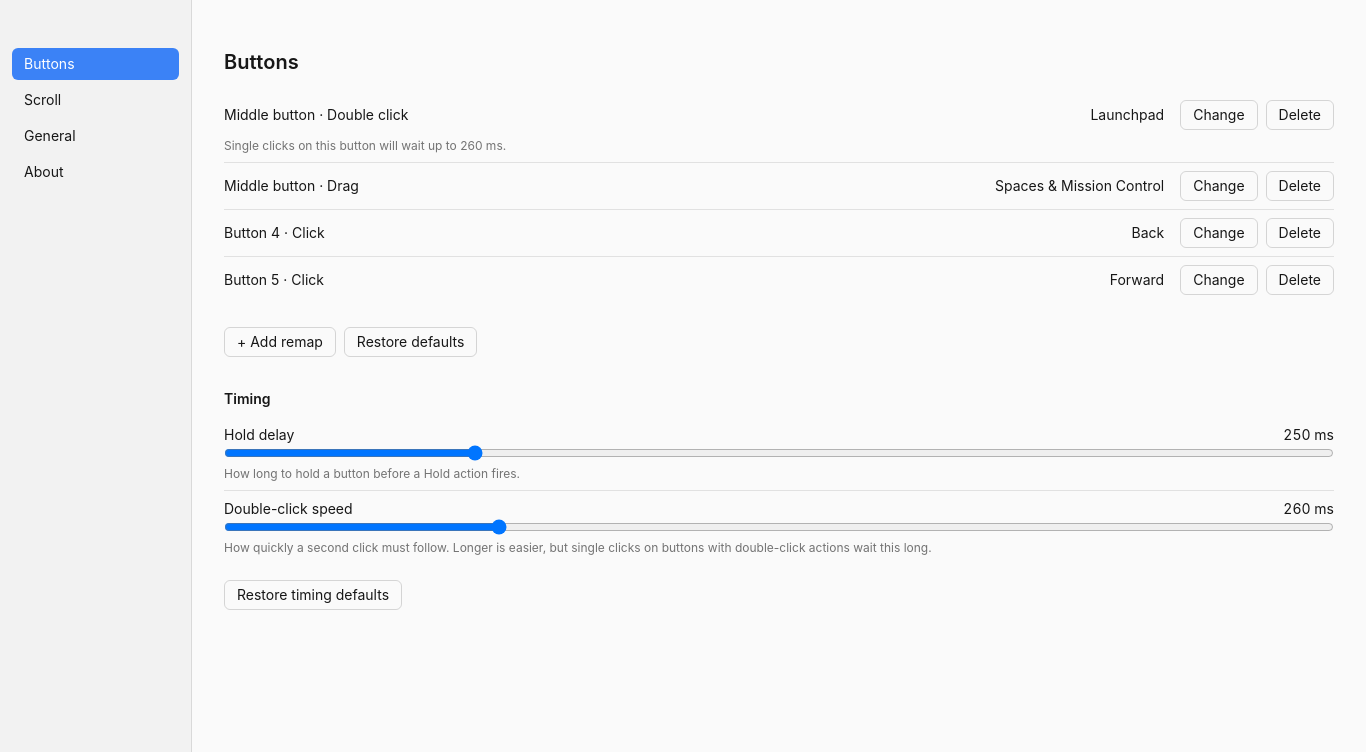
it: Buttons page › an edited drag row can't be saved with no direction
Click the button "Change" next to "Spaces & Mission Control".
click(1219, 186)  # box [1180,171,1258,201]
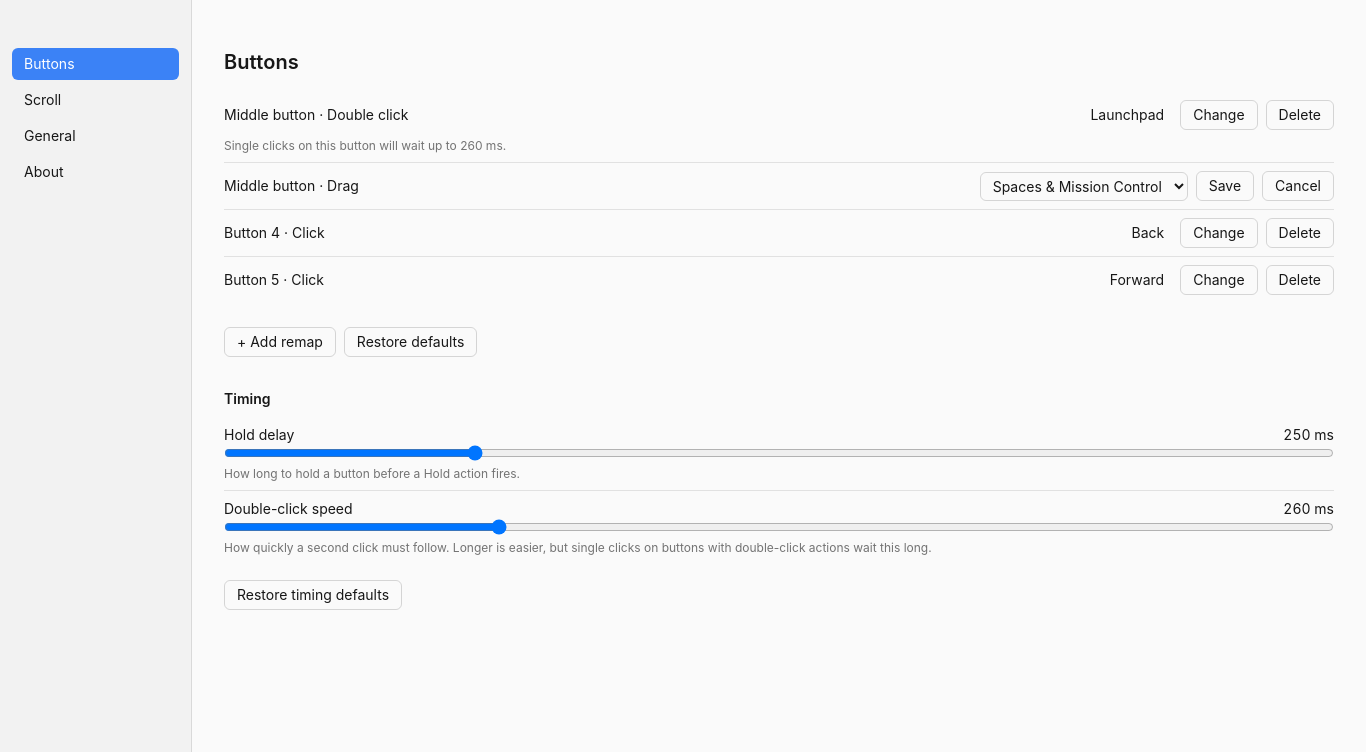
Select "Separate actions" in the dropdown named "Drag effect" at (1084, 186), box [980,172,1188,200]
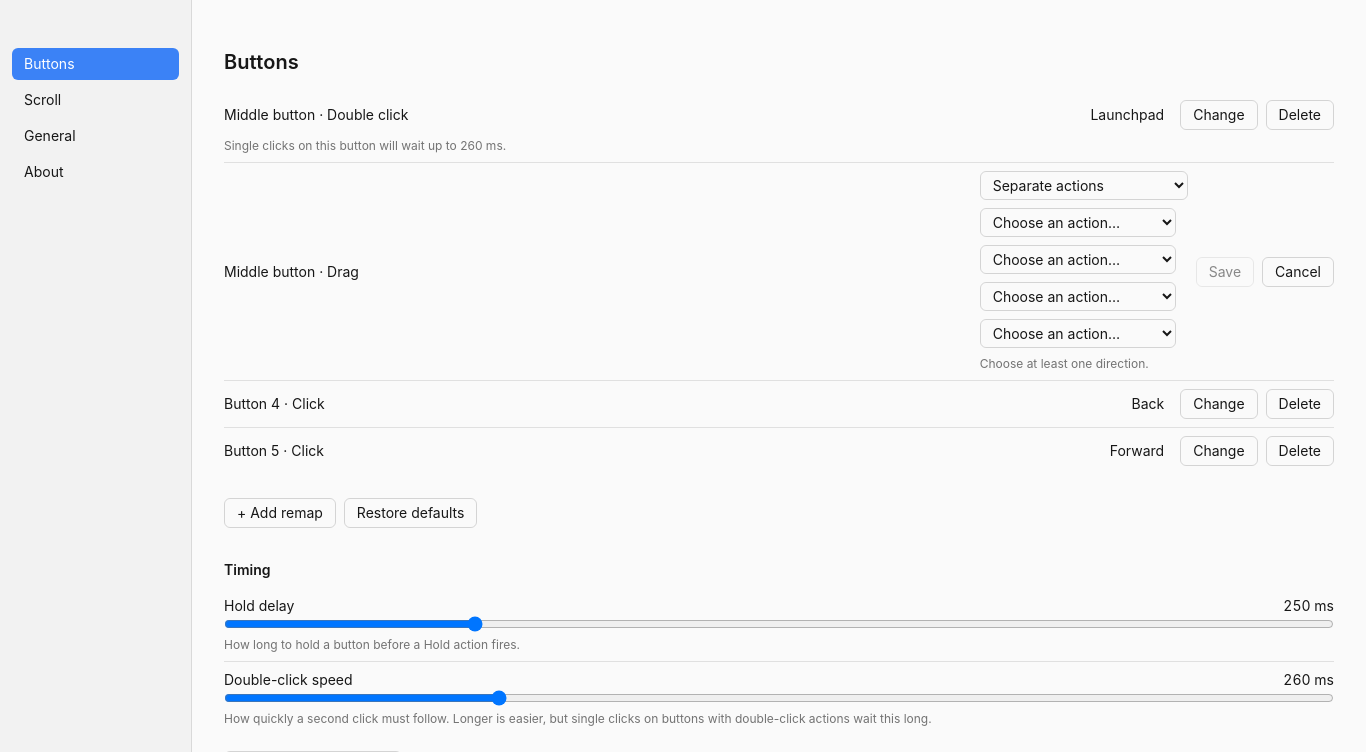
Now the text "Choose at least one direction." is shown, box [980,356,1149,371]
Now the button "Save" is disabled, box [1196,256,1254,286]
